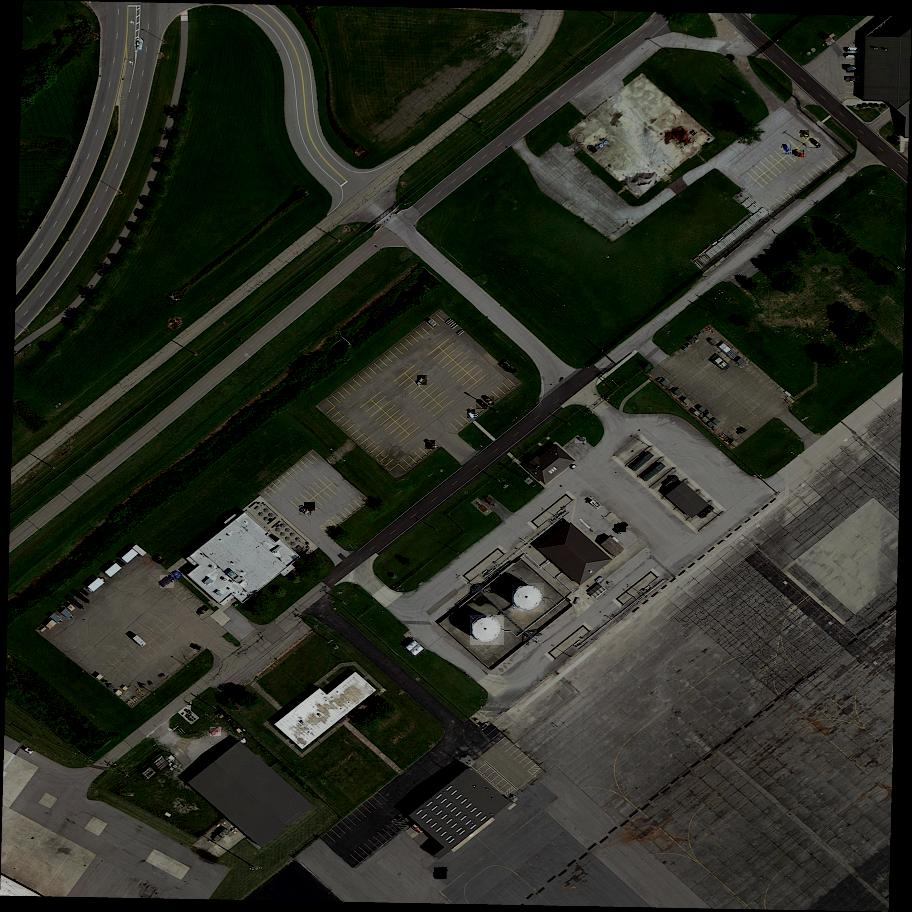small-vehicle: (160, 575, 175, 589), (434, 868, 447, 881), (476, 399, 488, 410), (809, 138, 820, 149), (615, 524, 627, 534), (846, 65, 860, 73), (210, 727, 221, 737), (418, 375, 428, 386), (300, 506, 312, 515), (484, 396, 494, 406), (467, 409, 477, 419), (425, 440, 436, 449), (305, 502, 315, 511), (576, 437, 587, 445), (792, 150, 804, 157), (846, 76, 860, 82), (801, 130, 809, 139), (783, 144, 790, 154), (847, 54, 858, 60), (848, 48, 860, 51), (137, 39, 140, 48)
storage-tank: (470, 616, 504, 646), (512, 583, 545, 613)
